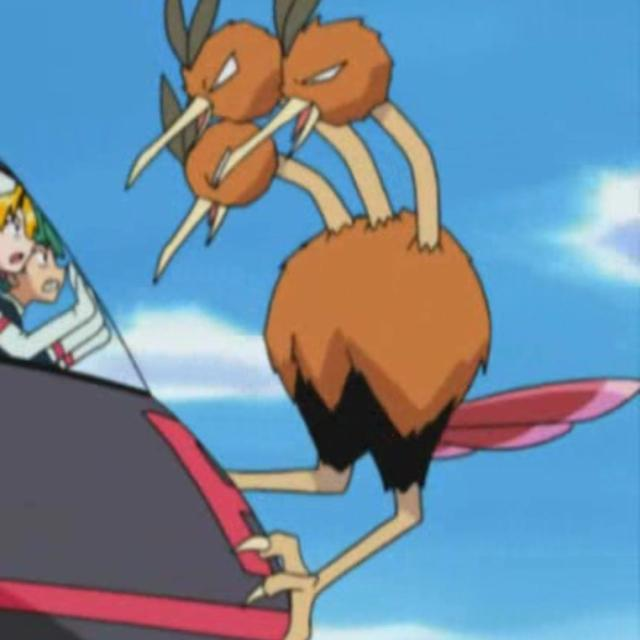Dodrio: (129, 0, 505, 597)
